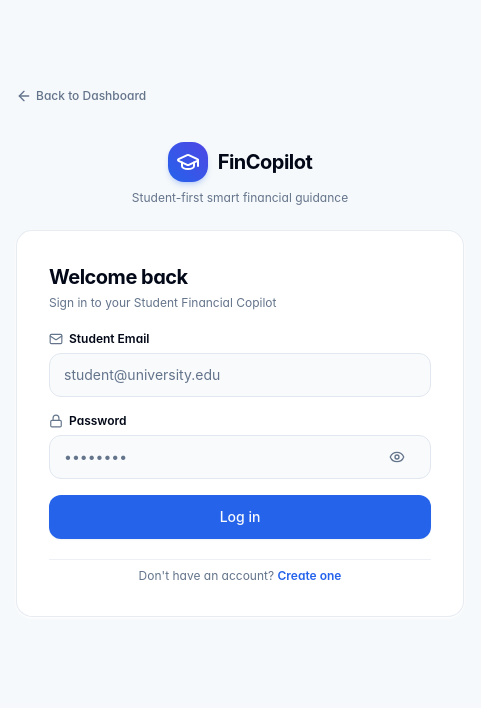
Test: Frontend Authentication Flow › 2. renders registration page when navigating to /register
Check: the text "Don't have an account? Create one" is shown, box [139,568,341,582]
Click the link "Create one": (309, 575) [278,568,341,582]
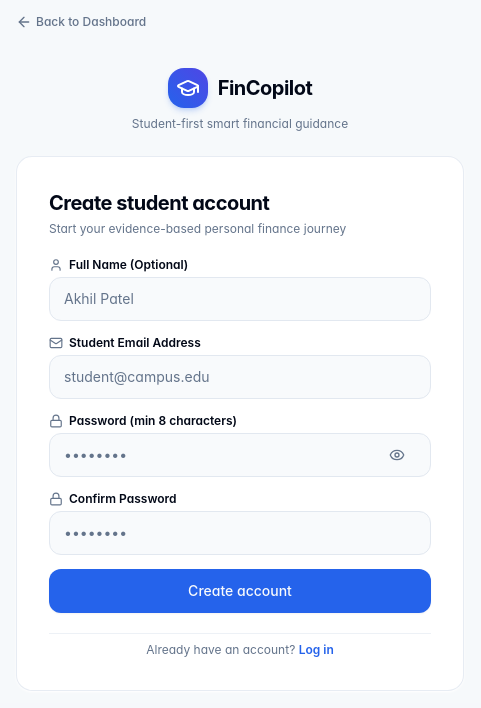
Check: the heading "Create student account" is shown, box [49,190,269,214]
Check: the password field labelled "Confirm Password" is shown, box [49,510,431,554]
Check: the button "Create account" is shown, box [49,568,431,612]
